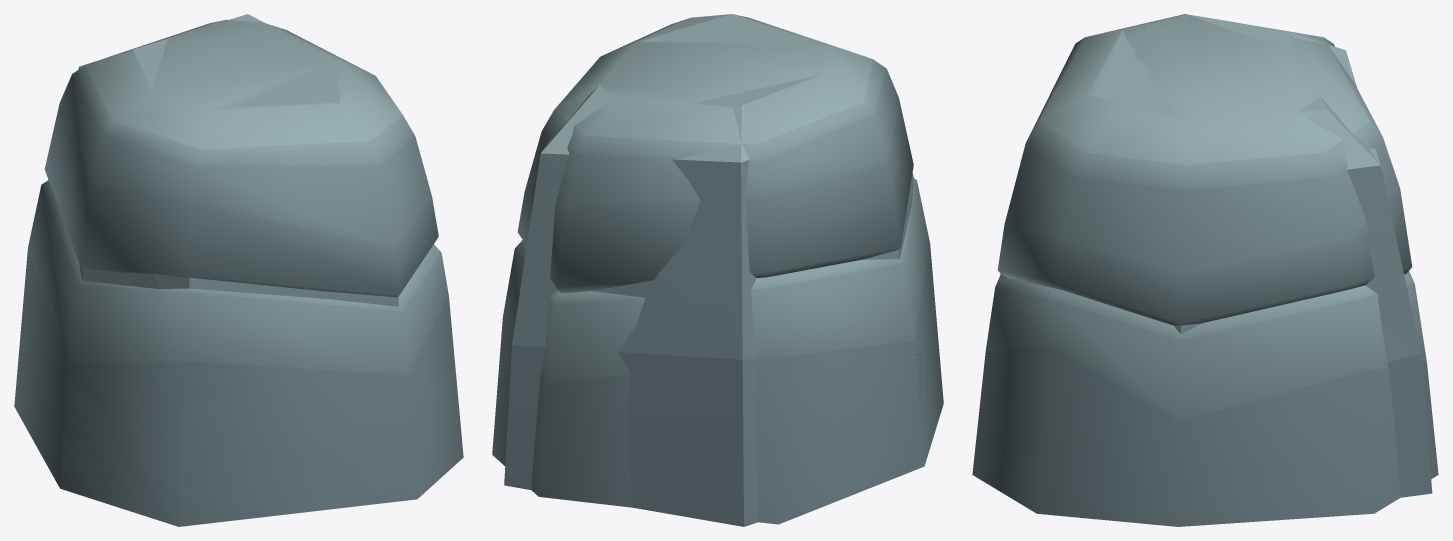
File: rock 03.fbx
3 views of the same model, side by side, from view 1: azimuth 30°, elevation 25°; view 2: azimuth 150°, elevation 25°; view 3: azimuth 270°, elevation 25° (orthographic). The views are drawn at different scales.
Visible parts, largest first — view 1: rock 03, rock 03 low; view 2: rock 03, rock 03 low; view 3: rock 03, rock 03 low.
Part boxes in pixels (left/top/right/bottom): rock 03: left=14, top=19, right=463, bottom=526; rock 03 low: left=60, top=14, right=415, bottom=526; rock 03: left=492, top=14, right=943, bottom=524; rock 03 low: left=504, top=14, right=942, bottom=526; rock 03: left=972, top=14, right=1438, bottom=526; rock 03 low: left=999, top=14, right=1432, bottom=497.
Bounding box in the file's own units: 331 × 325 × 361.
1 material, 1 textured.
